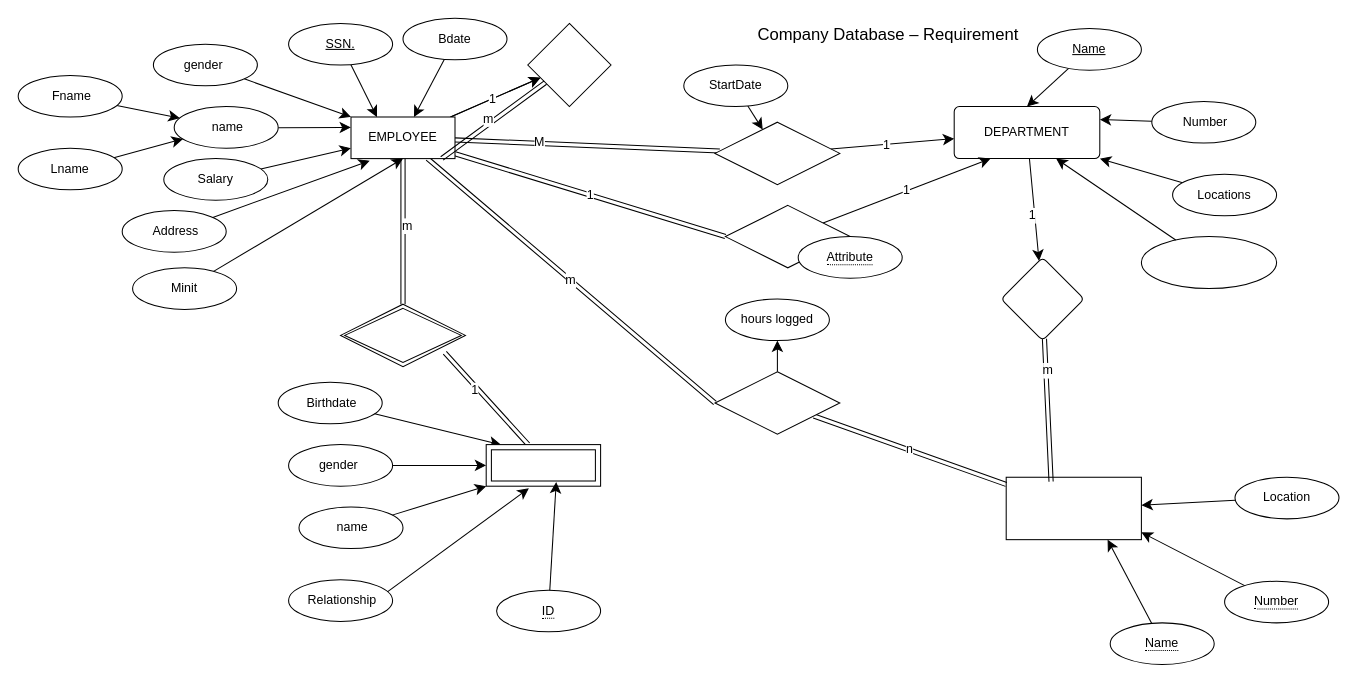
Image size: 1357x683. Some labels were removed from this diagram. Each missing label, with the box of its shape:
Controls: (1000, 256, 1084, 341)
DEPENDENT: (485, 444, 601, 486)
dependents: (340, 303, 465, 367)
Manage: (724, 204, 850, 268)
NumberOfEmployees: (1140, 236, 1277, 289)
PROJECT: (1005, 476, 1141, 540)
Supervise: (527, 22, 611, 107)
work for: (714, 121, 840, 185)
work on: (714, 371, 840, 434)
